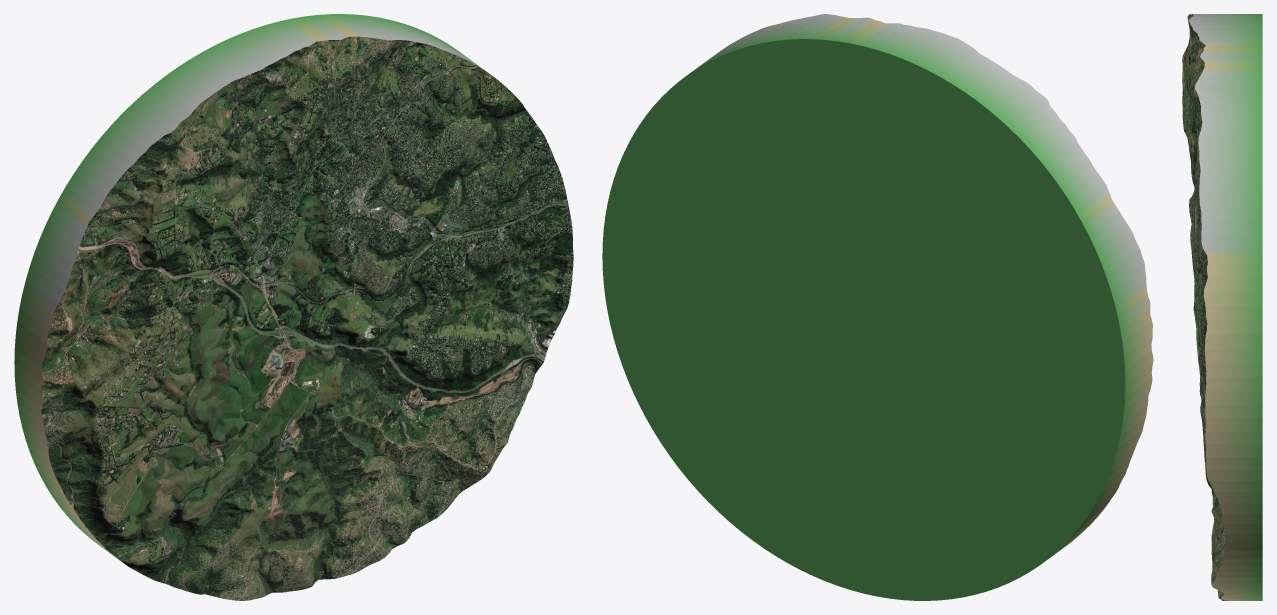
Rendered from durban_pietermaritzburg.glb.
3 views of the same model, side by side, from view 1: azimuth 30°, elevation 25°; view 2: azimuth 150°, elevation 25°; view 3: azimuth 270°, elevation 25° (orthographic). The views are drawn at different scales.
Size of the model in its own units: 200 by 200 by 27.33.
Materials: 2 (1 with a texture image).
